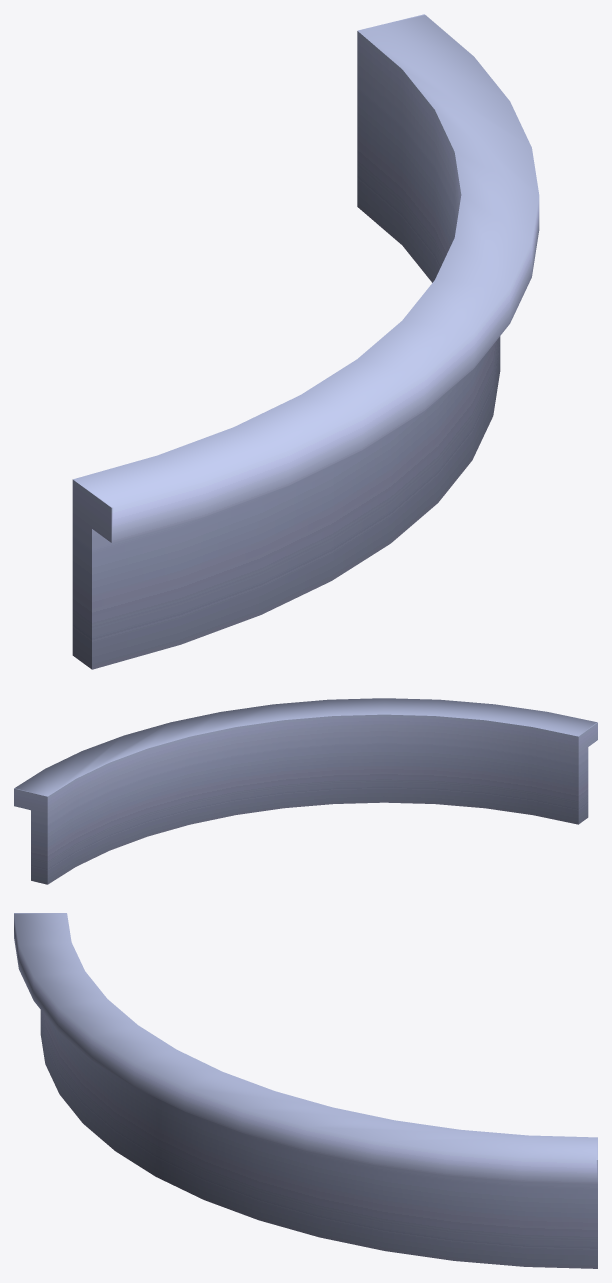
Rendered from border-high-corner-round.glb.
3 renders of one model, top to bottom at view 1: azimuth 30°, elevation 25°; view 2: azimuth 150°, elevation 25°; view 3: azimuth 270°, elevation 25°, orthographic. The views are drawn at different scales.
Visible parts, largest first — view 1: border-high-corner-round; view 2: border-high-corner-round; view 3: border-high-corner-round.
Part boxes in pixels (left/top/right/bottom): border-high-corner-round: left=72, top=14, right=539, bottom=669; border-high-corner-round: left=14, top=698, right=597, bottom=884; border-high-corner-round: left=14, top=913, right=597, bottom=1268.
Bounding box in the file's own units: 2.2 × 0.5001 × 2.2.
1 material, 1 textured.
